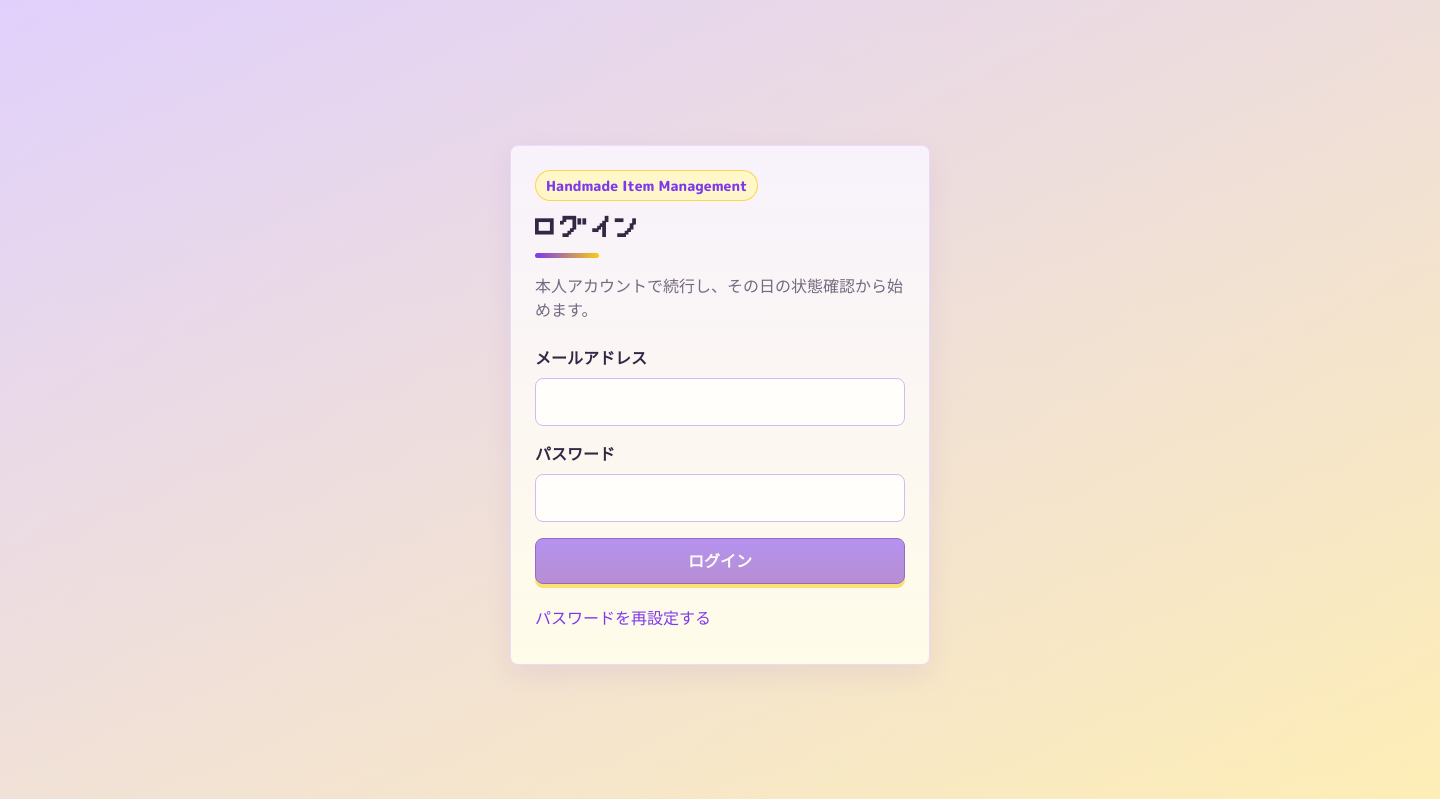
App routing › logs in and navigates to the dashboard
In the field labelled "メールアドレス": (720, 402) [535,378,905,426], type "owner@example.com"
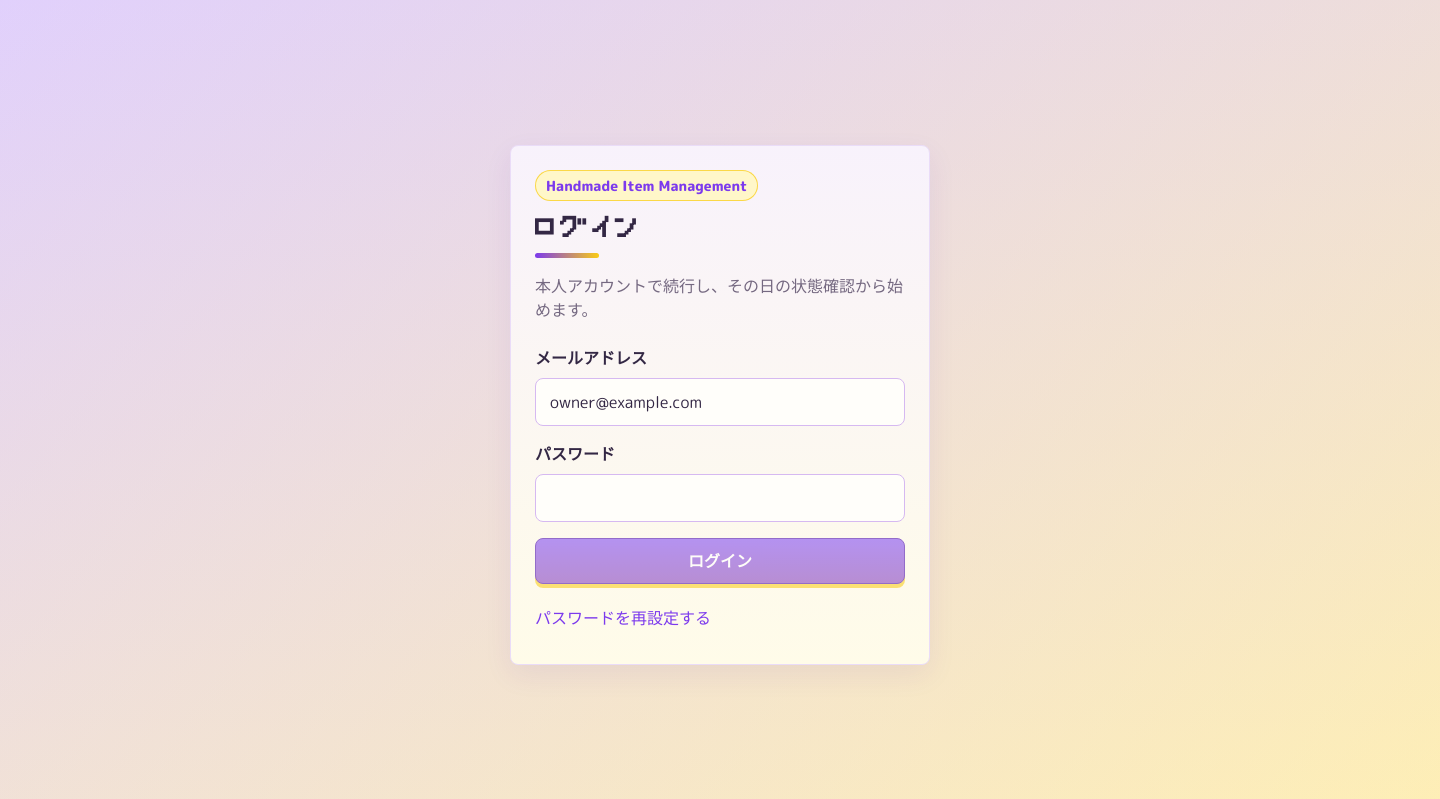
In the password field labelled "パスワード": (720, 498) [535,474,905,522], type "password123"
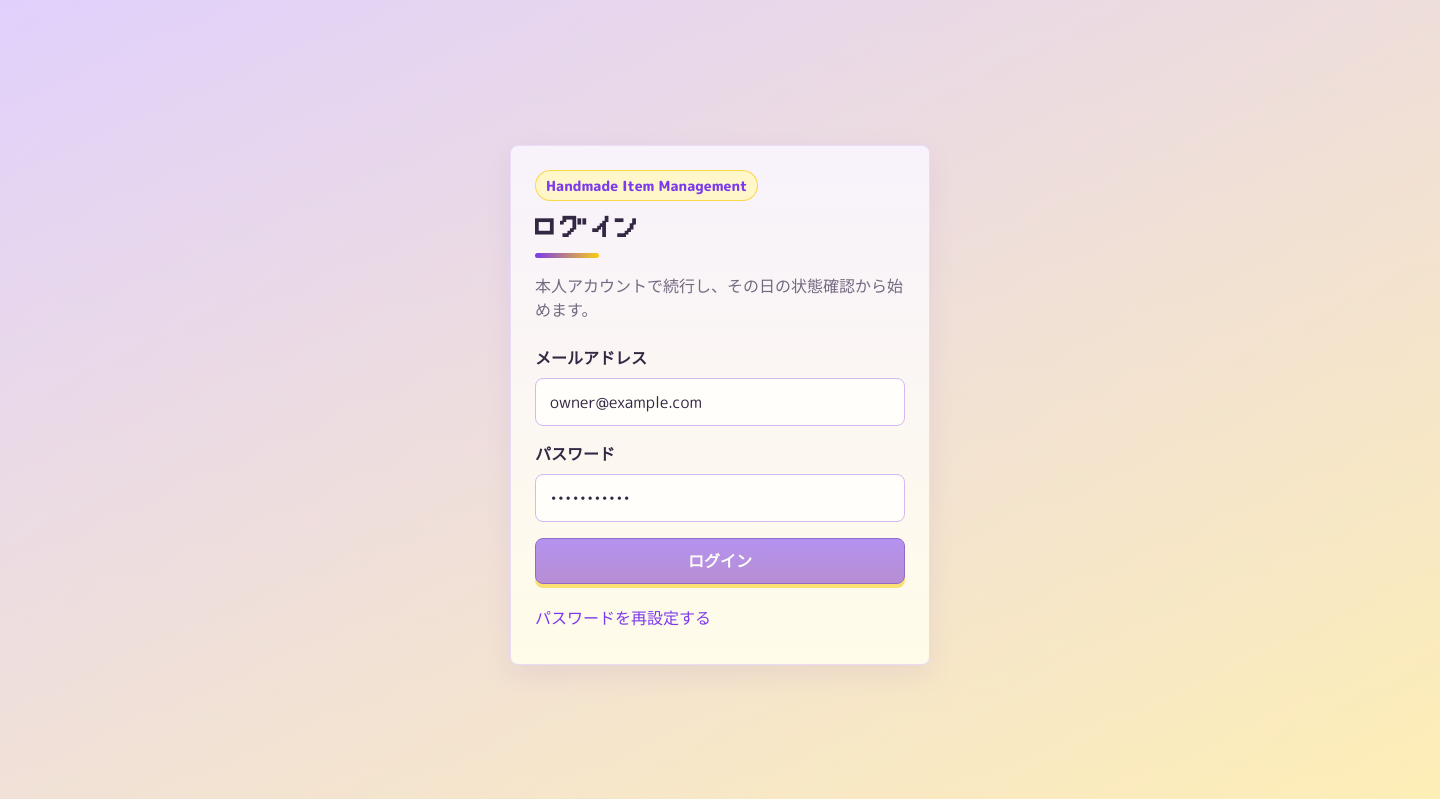
Leave the password field labelled "パスワード", box [535,474,905,522]
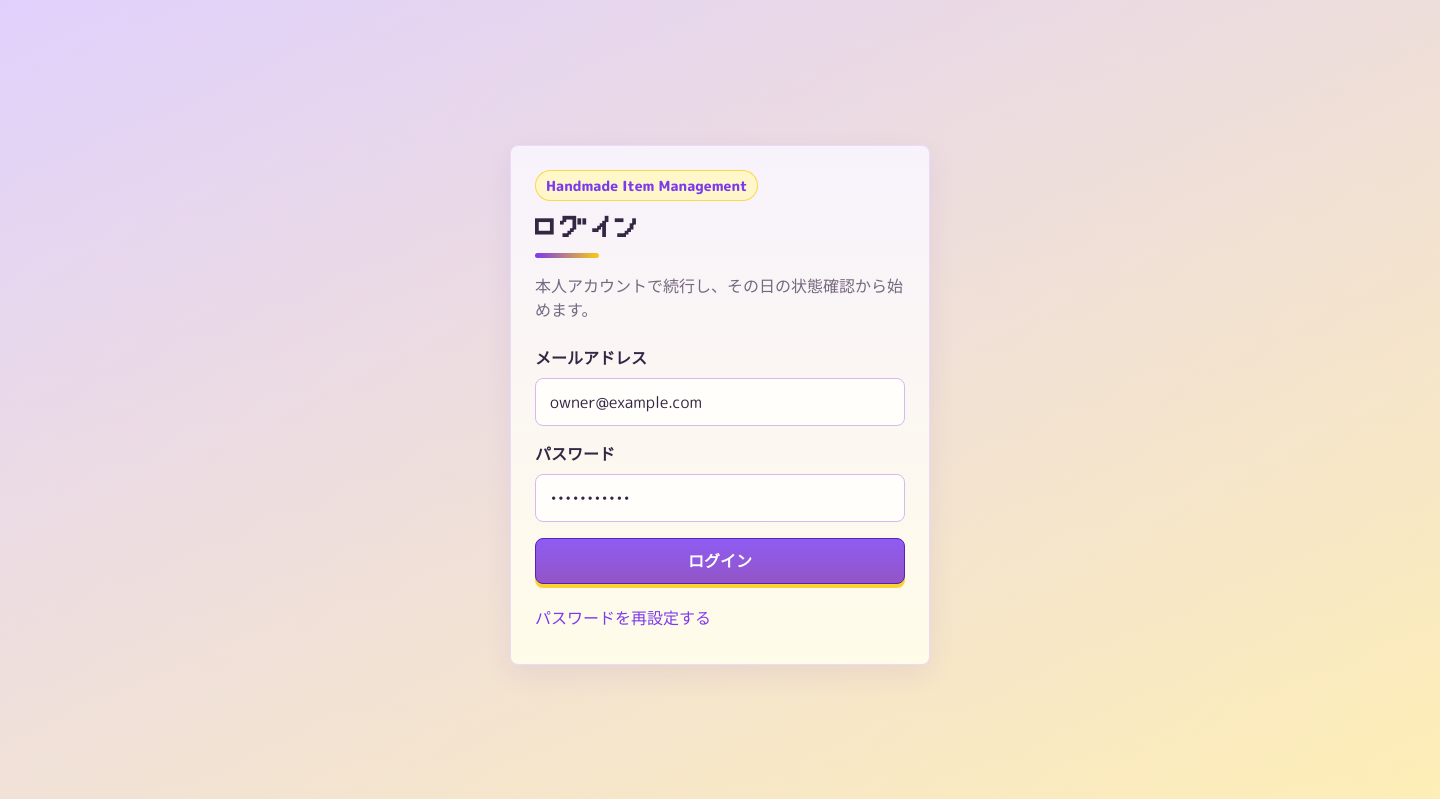
Check: the button "ログイン" is enabled
Click the button "ログイン": (720, 561) [535,538,905,584]
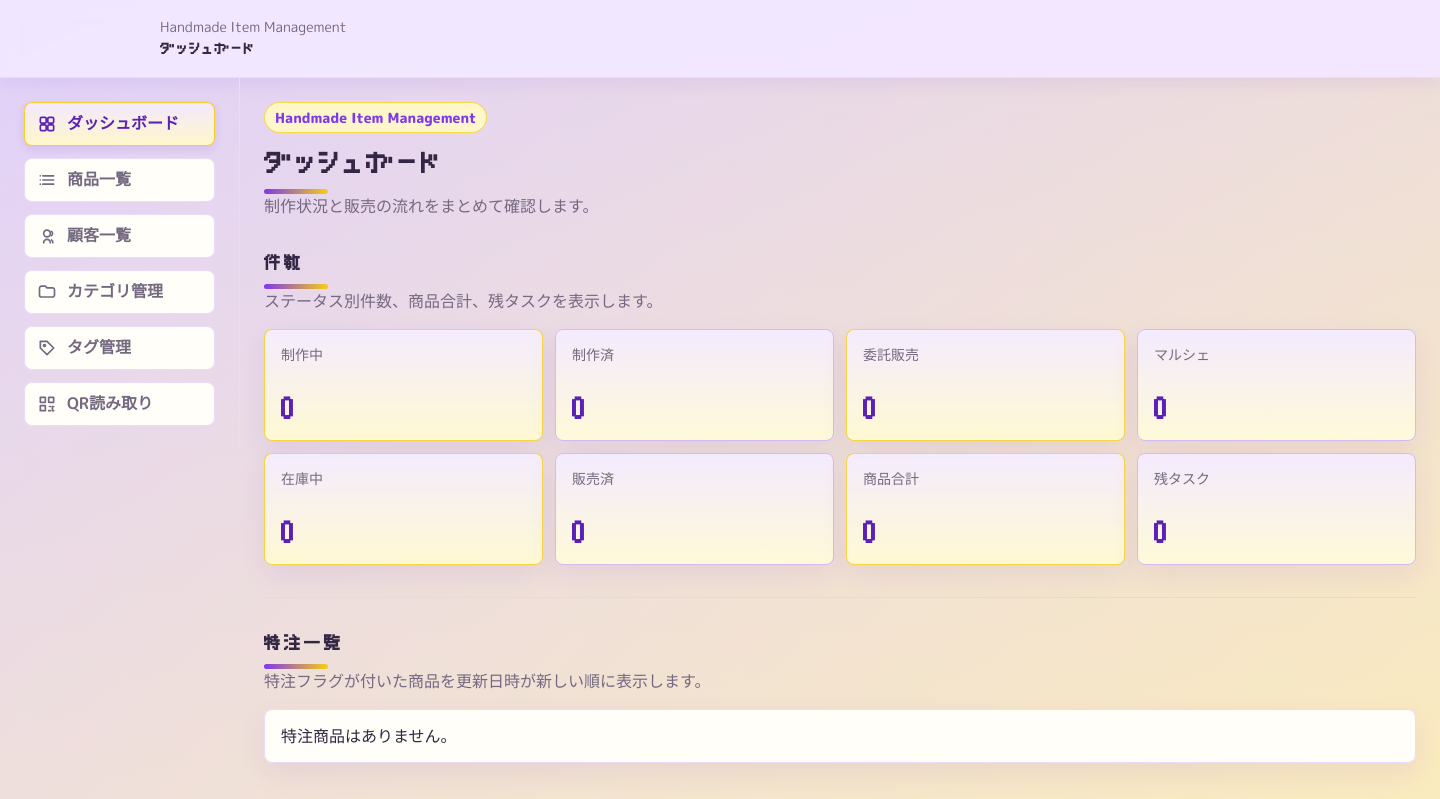
Check: the heading "ダッシュボード" is shown, box [264,148,443,178]
